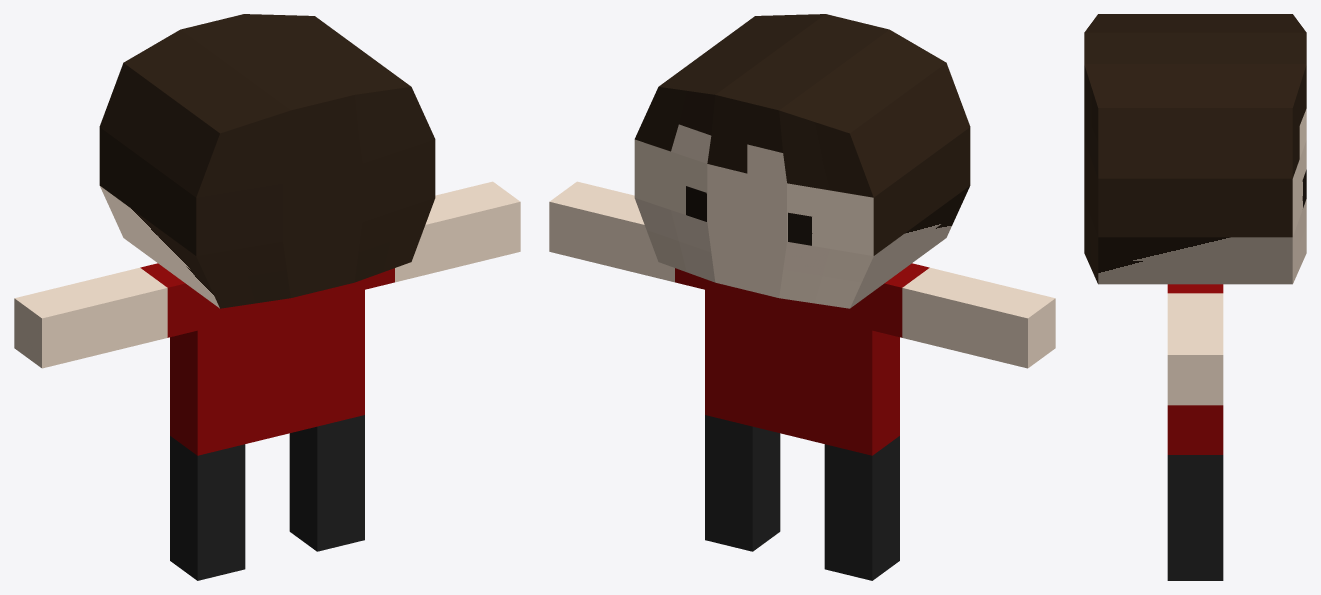
The model's file is lele.gltf.
3 renders of one model, left to right at view 1: azimuth 30°, elevation 25°; view 2: azimuth 150°, elevation 25°; view 3: azimuth 270°, elevation 25°, orthographic.
Parts seen in each view (by area): view 1: cuboid (×6); view 2: cuboid (×6); view 3: cuboid (×4).
Part boxes in pixels (x1,y1,x2,y2): cuboid (×6): (14,14,520,580); cuboid (×6): (549,14,1055,580); cuboid (×4): (1084,14,1306,580).
Size of the model in its own units: 0.25 by 0.2437 by 0.1.
1 material, 1 textured.
